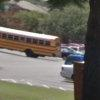Bus: (2, 21, 61, 63)
